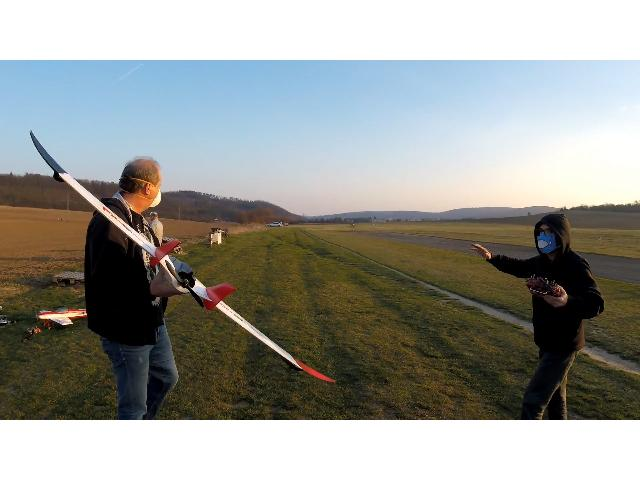Anti-Drone: (24, 122, 342, 392)
